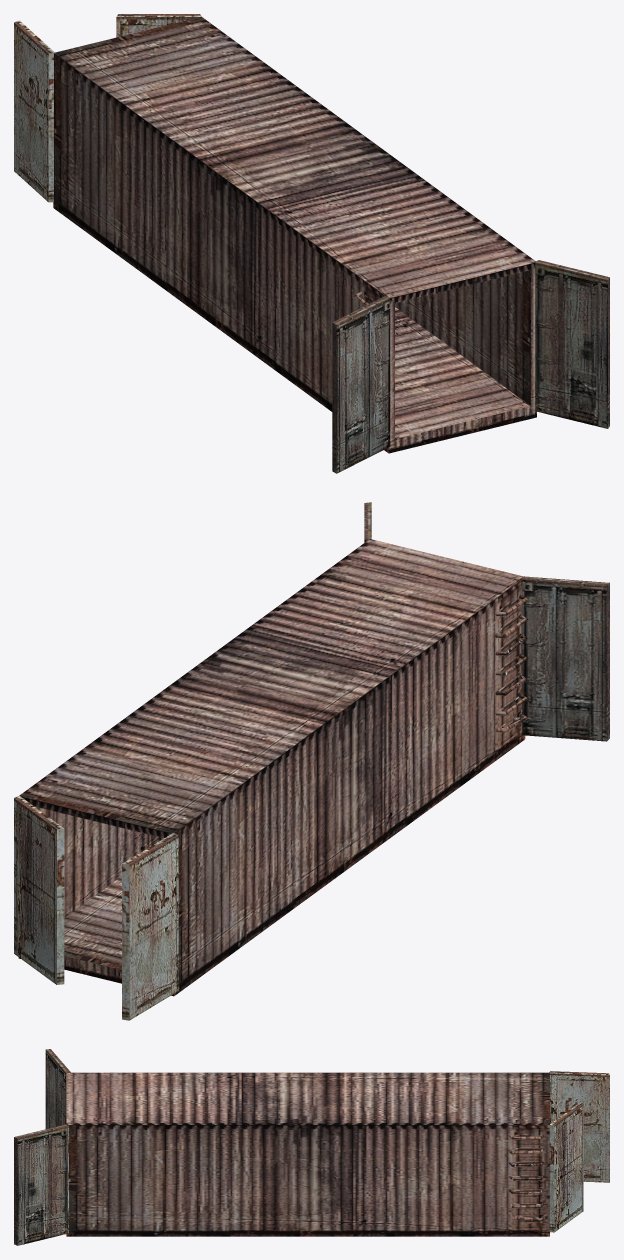
File: cargo06.glb
The picture shows the model from 3 angles, top to bottom: view 1: azimuth 30°, elevation 25°; view 2: azimuth 150°, elevation 25°; view 3: azimuth 270°, elevation 25°; orthographic projection. The views are drawn at different scales.
Parts seen in each view (by area): view 1: _cargo06; view 2: _cargo06; view 3: _cargo06.
Boxes of the visible parts, x1,y1,x2,y2 form: _cargo06: (14, 14, 609, 473); _cargo06: (14, 502, 609, 1020); _cargo06: (14, 1049, 609, 1245).
Bounding box in the file's own units: 5.15 × 3 × 14.48.
Materials: 1 (1 with a texture image).
